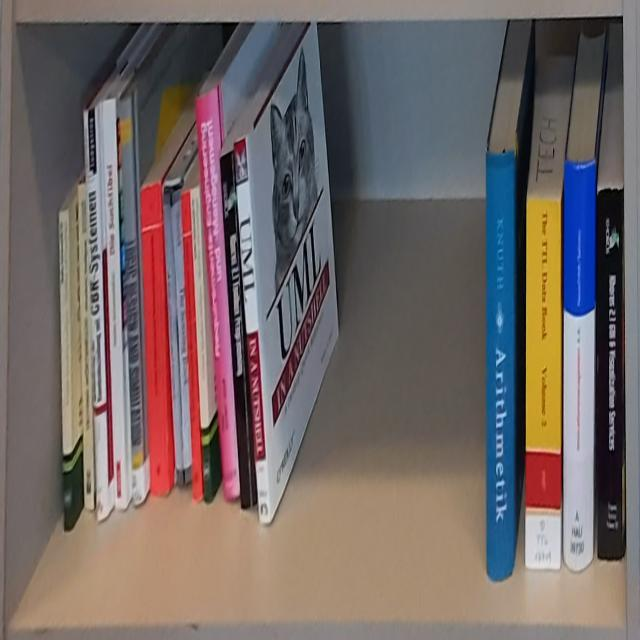Book Spine: (196, 86, 241, 499), (234, 135, 271, 525), (220, 149, 258, 509), (525, 199, 561, 571), (564, 160, 596, 572), (487, 149, 516, 582), (83, 105, 109, 522), (119, 95, 145, 505), (140, 182, 173, 496), (102, 97, 127, 508), (597, 190, 623, 560), (164, 185, 193, 489), (191, 185, 213, 505), (77, 183, 94, 510), (59, 211, 72, 530)
